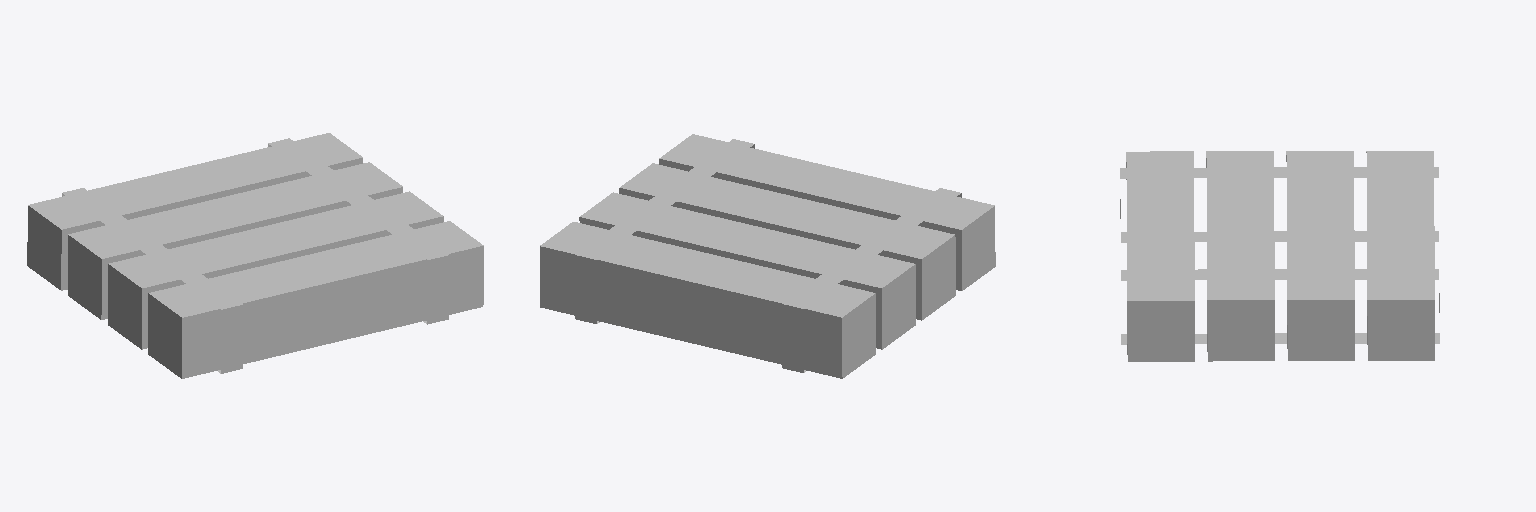
The model's file is pallet.obj.
3 views of the same model, side by side, from view 1: azimuth 30°, elevation 25°; view 2: azimuth 150°, elevation 25°; view 3: azimuth 270°, elevation 25° (orthographic).
Parts seen in each view (by area): view 1: Cube.009; view 2: Cube.009; view 3: Cube.009.
Boxes of the visible parts, box(x1,y1,x2,y2) form: Cube.009: box(27, 133, 483, 378); Cube.009: box(540, 134, 995, 378); Cube.009: box(1120, 151, 1439, 361).
Size of the model in its own units: 0.2887 by 0.0602 by 0.2633.